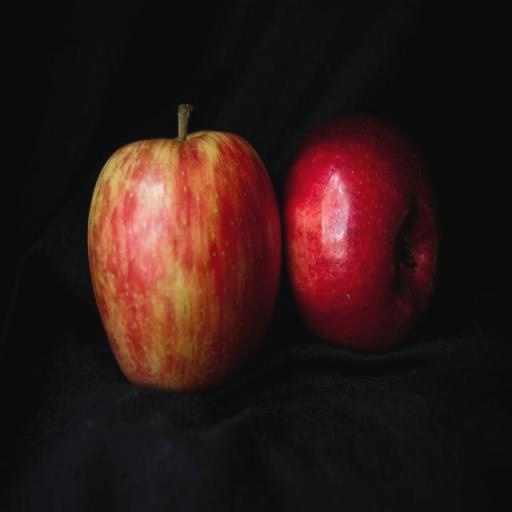fruit: (88, 106, 280, 391), (284, 116, 439, 351)
